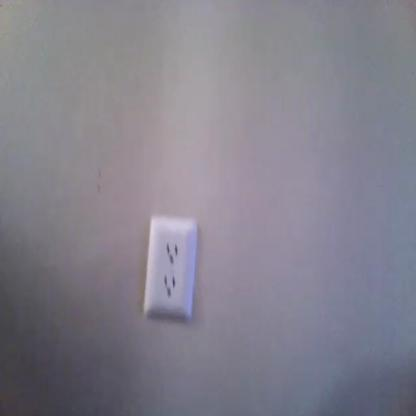OUTLET: (145, 215, 194, 318)
